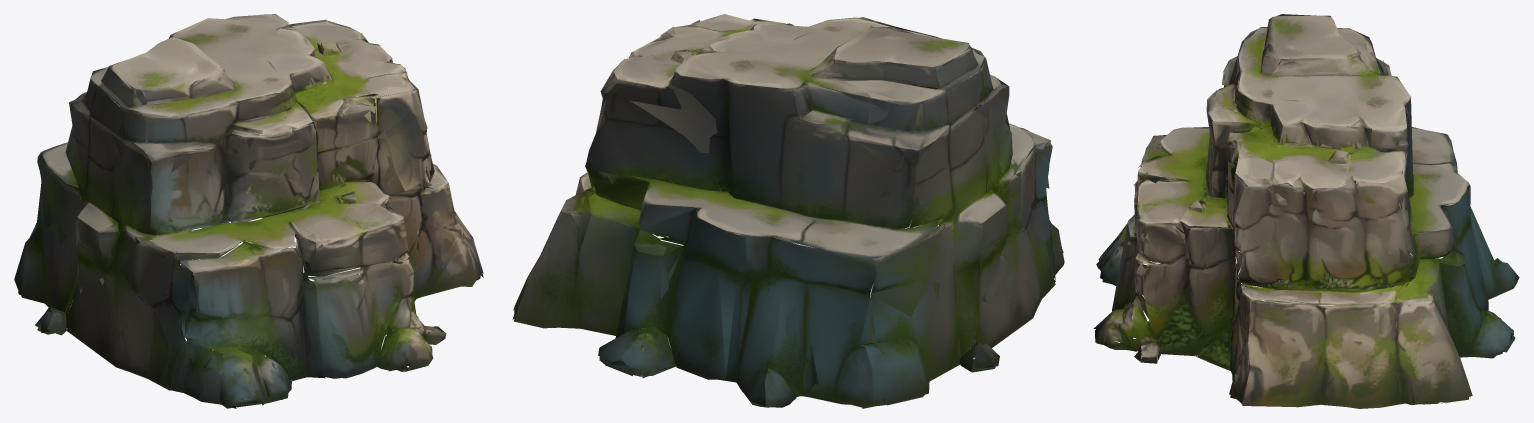
The model's file is rock_cliff_hy.glb.
The picture shows the model from 3 angles, left to right: view 1: azimuth 30°, elevation 25°; view 2: azimuth 150°, elevation 25°; view 3: azimuth 270°, elevation 25°; orthographic projection. The views are drawn at different scales.
Visible parts, largest first — view 1: rock_cliff_hy; view 2: rock_cliff_hy; view 3: rock_cliff_hy.
Boxes of the visible parts, left/top/right/bottom form: rock_cliff_hy: left=14, top=14, right=483, bottom=408; rock_cliff_hy: left=512, top=14, right=1064, bottom=408; rock_cliff_hy: left=1093, top=14, right=1519, bottom=408.
Size of the model in its own units: 1.62 by 1 by 1.6.
1 material, 1 textured.
